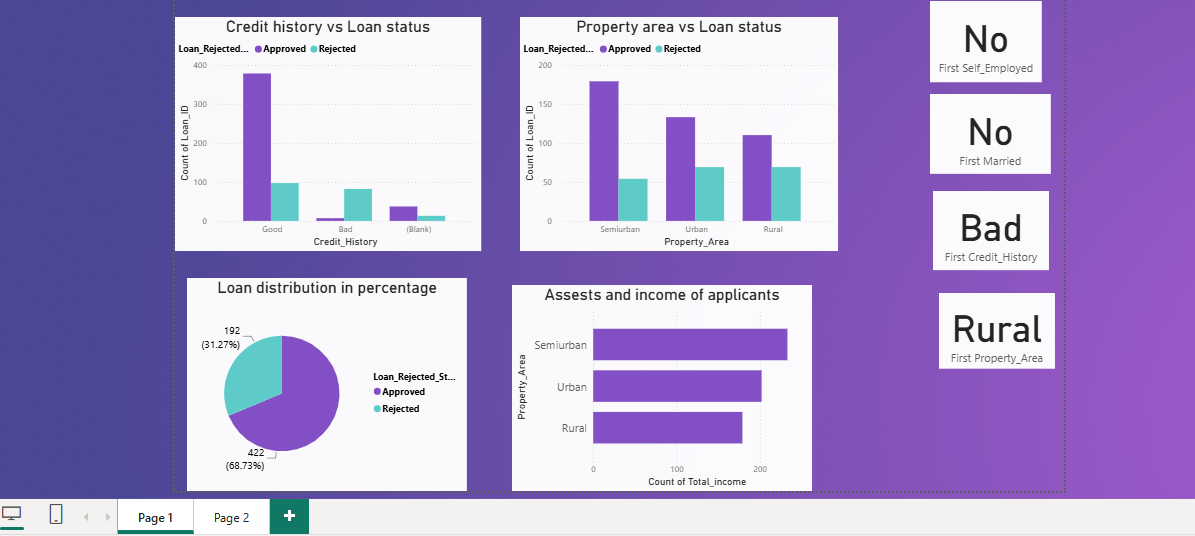

What the dashboard file says about the page in this screenshot:
{"tool":"powerbi","page":{"name":"Page 1","canvas":[1280,720],"ordinal":0},"visuals":[{"type":"pieChart","title":"Loan distribution in percentage","fields":{"Y":["CountNonNull(train_u6lujuX_CVtuZ9i (1).Loan_Rejected_Status)"],"Category":["train_u6lujuX_CVtuZ9i (1).Loan_Rejected_Status"]},"box":[17.3,413.3,403.2,306.7],"z":0},{"type":"card","fields":{"Values":["Min(train_u6lujuX_CVtuZ9i (1).Credit_History)"]},"box":[1091.5,288,167,113.8],"z":1000},{"type":"card","fields":{"Values":["Min(train_u6lujuX_CVtuZ9i (1).Self_Employed)"]},"box":[1087.2,14.4,161.3,116.6],"z":2000},{"type":"card","fields":{"Values":["Min(train_u6lujuX_CVtuZ9i (1).Married)"]},"box":[1087.2,148.3,174.2,115.2],"z":3000},{"type":"card","fields":{"Values":["Min(train_u6lujuX_CVtuZ9i (1).Property_Area)"]},"box":[1100.2,434.9,167,109.4],"z":4000},{"type":"clusteredBarChart","title":"Assests and income of applicants","fields":{"Category":["train_u6lujuX_CVtuZ9i (1).Property_Area"],"Y":["CountNonNull(train_u6lujuX_CVtuZ9i (1).Total_income)"]},"box":[485.3,423.4,432,296.6],"z":5000},{"type":"clusteredColumnChart","title":"Credit history vs Loan status","fields":{"Category":["train_u6lujuX_CVtuZ9i (1).Credit_History"],"Series":["train_u6lujuX_CVtuZ9i (1).Loan_Rejected_Status"],"Y":["CountNonNull(train_u6lujuX_CVtuZ9i (1).Loan_ID)"]},"box":[0,37.4,440.6,337],"z":6000},{"type":"clusteredColumnChart","title":"Property area vs Loan status","fields":{"Category":["train_u6lujuX_CVtuZ9i (1).Property_Area"],"Series":["train_u6lujuX_CVtuZ9i (1).Loan_Rejected_Status"],"Y":["CountNonNull(train_u6lujuX_CVtuZ9i (1).Loan_ID)"]},"box":[496.8,37.4,457.9,337],"z":7000}]}

Visuals, with their boxes in screenshot pixels (x1, y1, x2, y2):
"Loan distribution in percentage" pieChart: crop(177, 277, 462, 494)
card - Min(train_u6lujuX_CVtuZ9i (1).Credit_History): crop(937, 188, 1055, 269)
card - Min(train_u6lujuX_CVtuZ9i (1).Self_Employed): crop(934, 0, 1048, 77)
card - Min(train_u6lujuX_CVtuZ9i (1).Married): crop(934, 89, 1057, 171)
card - Min(train_u6lujuX_CVtuZ9i (1).Property_Area): crop(943, 292, 1061, 369)
"Assests and income of applicants" clusteredBarChart: crop(508, 284, 814, 494)
"Credit history vs Loan status" clusteredColumnChart: crop(165, 11, 477, 249)
"Property area vs Loan status" clusteredColumnChart: crop(516, 11, 840, 249)
